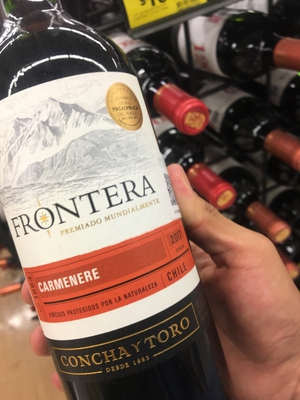frontera carmenere: (5, 21, 209, 387)
